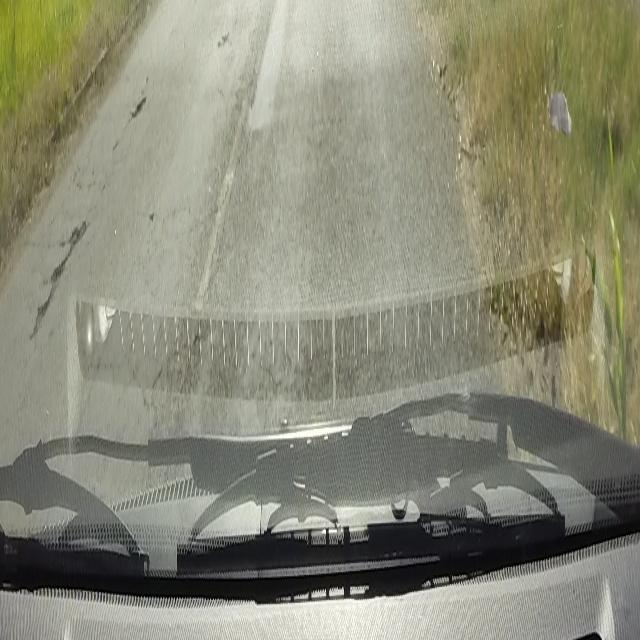pothole: (29, 226, 91, 340), (126, 90, 148, 122)
